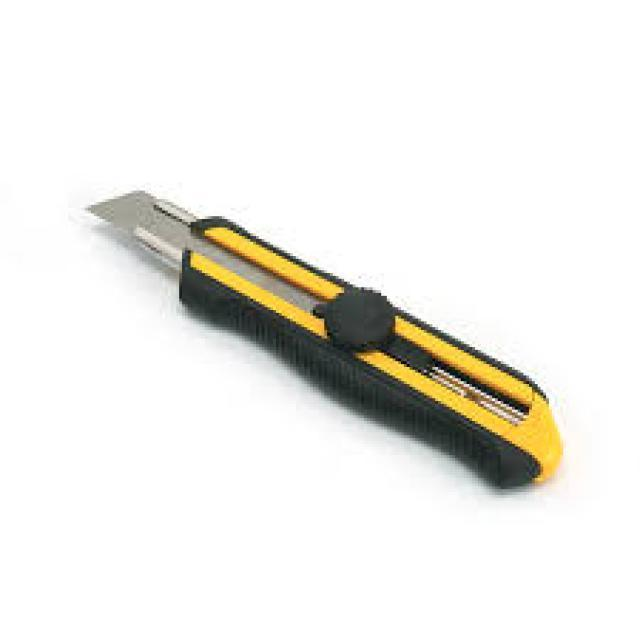cutter: (77, 163, 578, 501)
